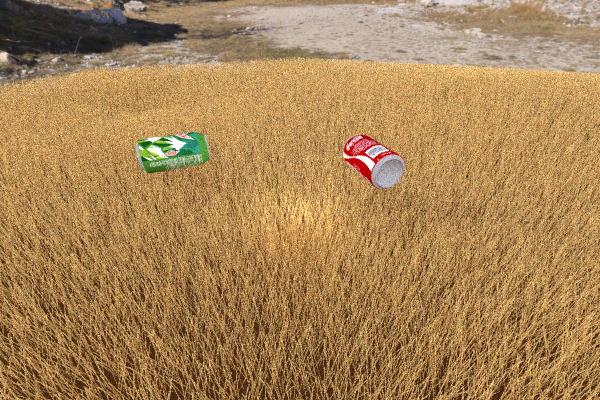bottle: (183, 93, 272, 131)
can: (342, 134, 405, 189), (135, 131, 210, 173)
